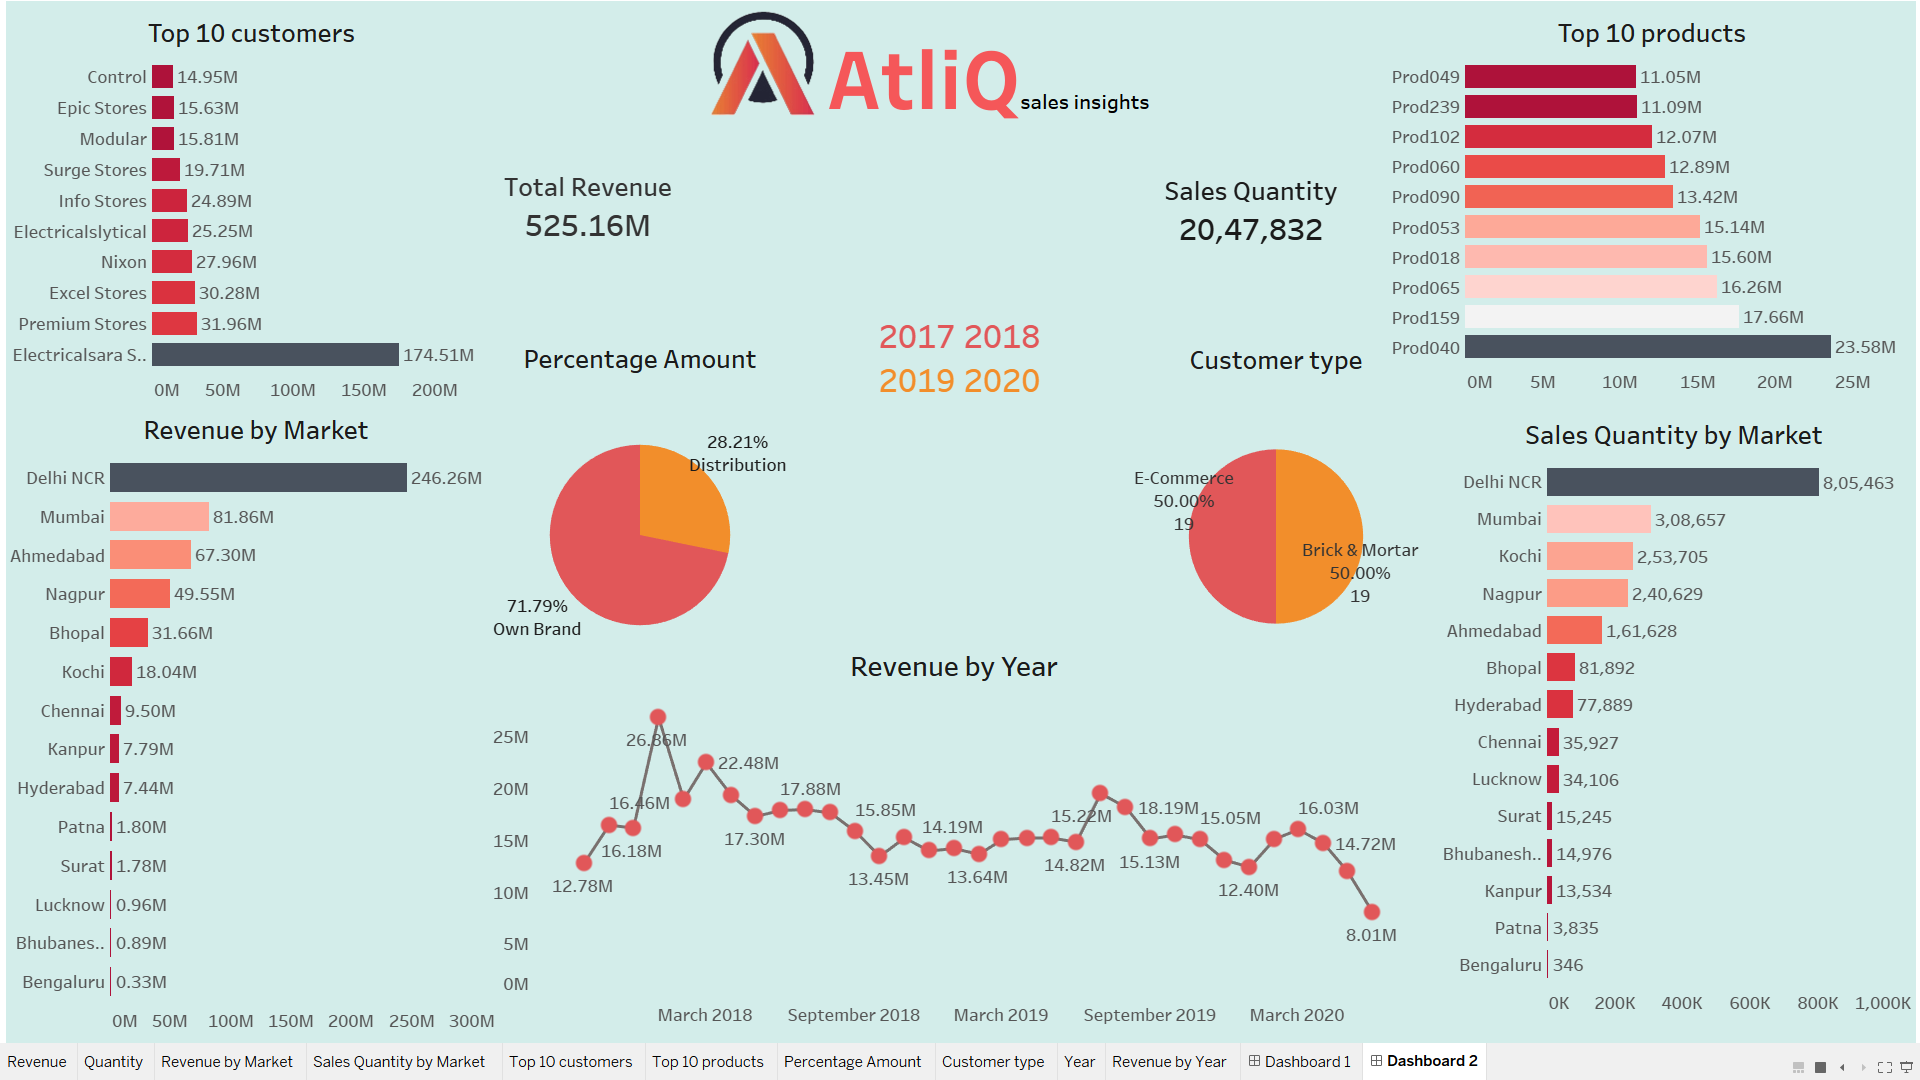

What the dashboard file says about the page in this screenshot:
{"tool":"tableau","page":{"name":"Dashboard 2","canvas":[1000,1000],"units":"permille","ordinal":1},"visuals":[{"type":"text","box":[429.1,3.5,226.4,138.7]},{"type":"worksheet","title":"Top 10 customers","mark":"Automatic","rows":["custmer_name"],"cols":["Calculation_1004584231574167552"],"box":[6.2,10.6,249.7,372.5]},{"type":"worksheet","title":"Top 10 products","mark":"Automatic","rows":["product_code (products.csv)"],"cols":["Calculation_1004584231574167552"],"box":[721.1,10.6,278.3,366.6]},{"type":"worksheet","title":"Revenue","mark":"Automatic","box":[249.8,161.4,166,202.2]},{"type":"worksheet","title":"Quantity","mark":"Automatic","box":[599.3,165.7,125.9,179.8]},{"type":"worksheet","title":"Year","mark":"Automatic","box":[453.9,296.1,105.8,130.4]},{"type":"worksheet","title":"Percentage Amount","mark":"Pie","box":[256.5,323.2,154.3,331.4]},{"type":"worksheet","title":"Customer type","mark":"Pie","box":[590.2,324.3,148.8,332.6]},{"type":"worksheet","title":"Revenue by Market","mark":"Automatic","rows":["markets_name"],"cols":["Calculation_1004584231574167552"],"box":[5.3,391.3,256.5,600.5]},{"type":"worksheet","title":"Sales Quantity by Market","mark":"Automatic","rows":["markets_name"],"cols":["sales_qty"],"box":[747.6,396,248.8,593.4]},{"type":"worksheet","title":"Revenue by Year","mark":"Automatic","rows":["Calculation_1004584231574167552","Calculation_1004584231574167552"],"cols":["cy_date"],"box":[254.2,616.9,485.5,370.2]}]}

Visuals, with their boxes on the dashboard's canvas, which has no fixed pixel size, in thousandths of its width and height (x1, y1, x2, y2). These are canvas units, not pixel positions in the 1920x1080 screenshot, which may show the page scaled, cropped or inside an application window:
text: bbox(429, 4, 656, 142)
"Top 10 customers" worksheet: bbox(6, 11, 256, 383)
"Top 10 products" worksheet: bbox(721, 11, 999, 377)
"Revenue" worksheet: bbox(250, 161, 416, 364)
"Quantity" worksheet: bbox(599, 166, 725, 346)
"Year" worksheet: bbox(454, 296, 560, 426)
"Percentage Amount" worksheet (Pie marks): bbox(256, 323, 411, 655)
"Customer type" worksheet (Pie marks): bbox(590, 324, 739, 657)
"Revenue by Market" worksheet: bbox(5, 391, 262, 992)
"Sales Quantity by Market" worksheet: bbox(748, 396, 996, 989)
"Revenue by Year" worksheet: bbox(254, 617, 740, 987)
